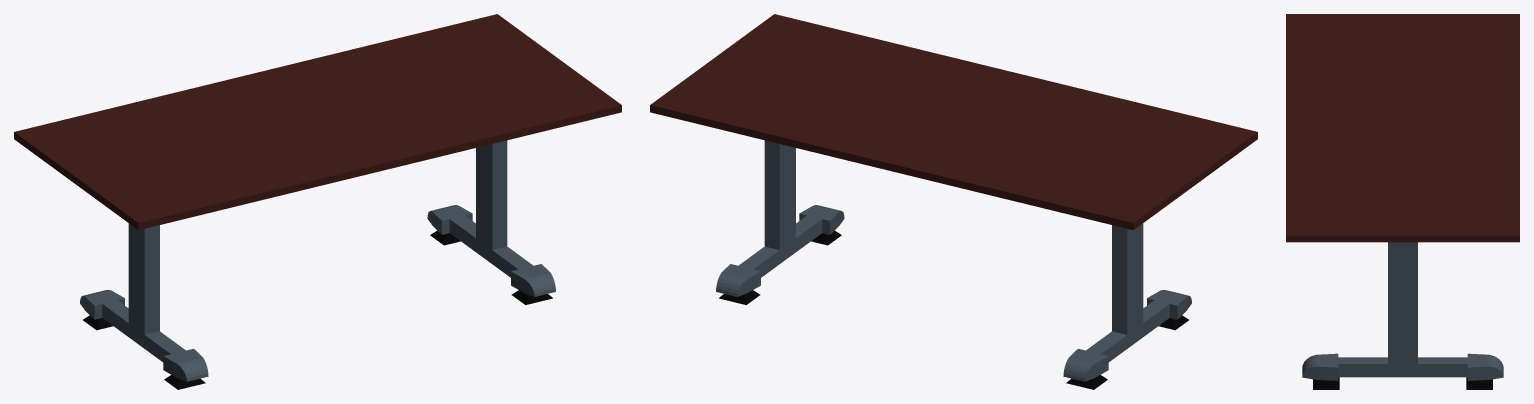
The model's file is mesa.gltf.
3 views of the same model, side by side, from view 1: azimuth 30°, elevation 25°; view 2: azimuth 150°, elevation 25°; view 3: azimuth 270°, elevation 25° (orthographic). The views are drawn at different scales.
Parts seen in each view (by area): view 1: Cubo; view 2: Cubo; view 3: Cubo.
Boxes of the visible parts, left/top/right/bottom form: Cubo: left=14, top=14, right=621, bottom=389; Cubo: left=650, top=14, right=1257, bottom=389; Cubo: left=1286, top=14, right=1519, bottom=389.
Bounding box in the file's own units: 13.31 × 5.02 × 5.94.
